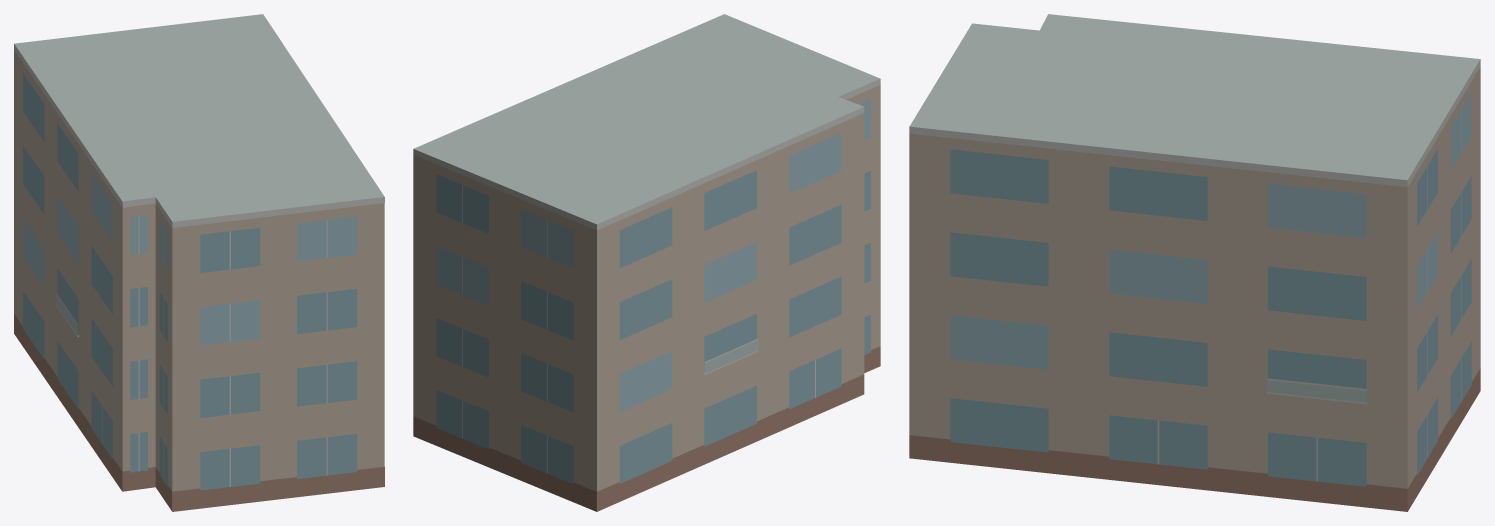
File: survey-upis-32830305.glb
3 renders of one model, left to right at view 1: azimuth 30°, elevation 25°; view 2: azimuth 150°, elevation 25°; view 3: azimuth 270°, elevation 25°, orthographic. The views are drawn at different scales.
Visible parts, largest first — view 1: survey-upis-32830305.tmp; view 2: survey-upis-32830305.tmp; view 3: survey-upis-32830305.tmp.
Boxes of the visible parts, left/top/right/bottom form: survey-upis-32830305.tmp: left=14, top=14, right=384, bottom=511; survey-upis-32830305.tmp: left=413, top=14, right=880, bottom=511; survey-upis-32830305.tmp: left=909, top=14, right=1480, bottom=511.
Bounding box in the file's own units: 12.48 × 11.6 × 18.12.
